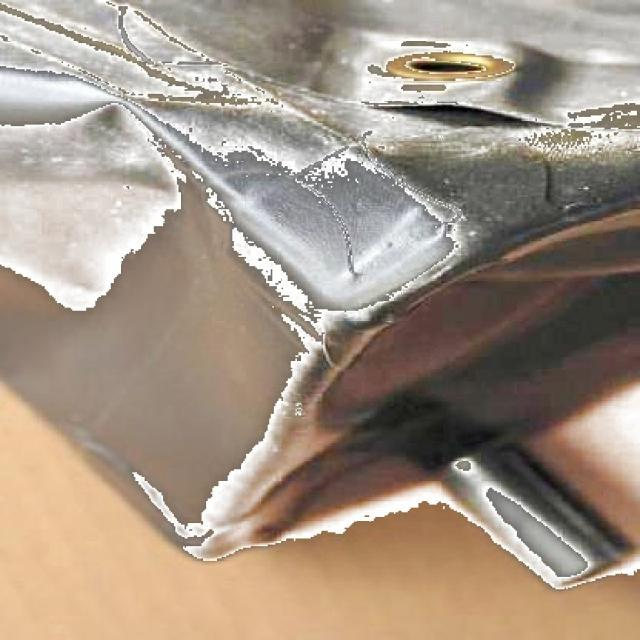crack: (301, 180, 377, 286)
